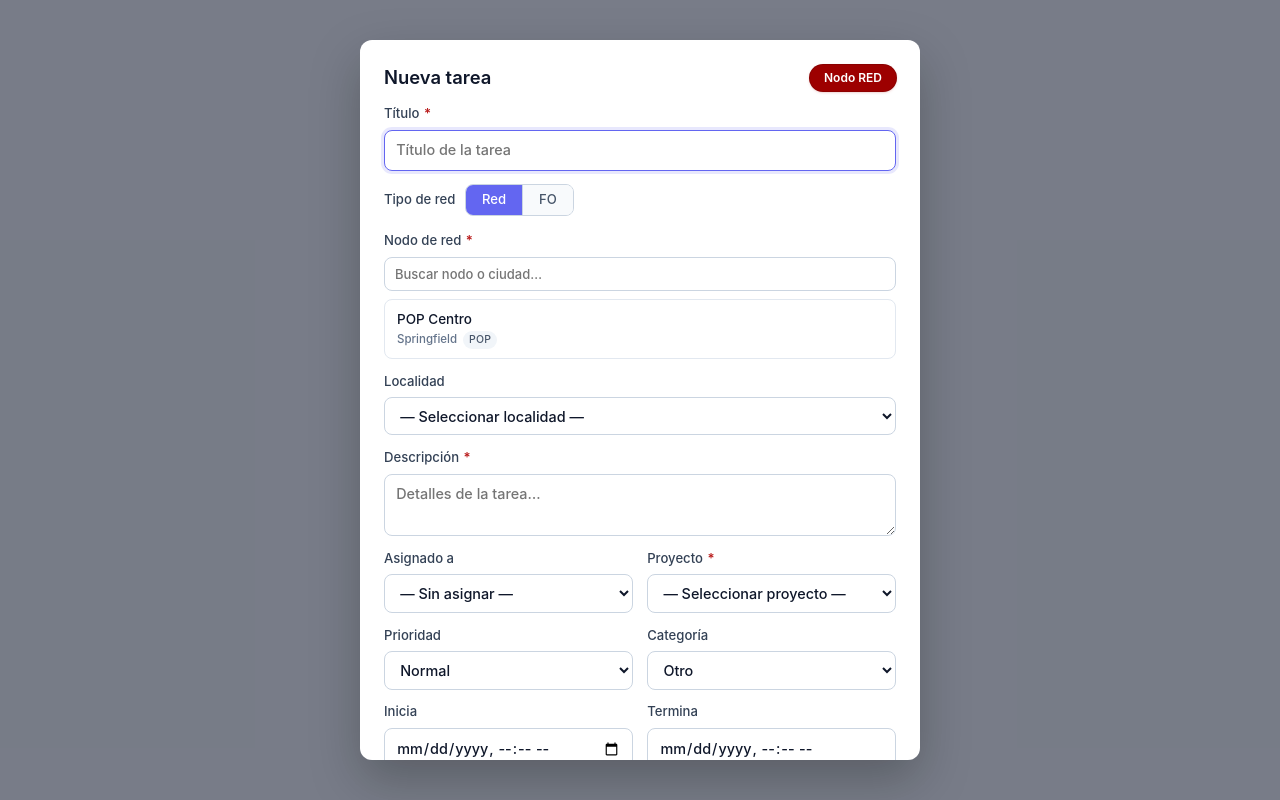
CreateTaskModal — FO node dropdown (TC-FO-1) › shows a <select> with placeholder + 3 FO options when switched to FO mode
The image size is (1280, 800).
Click the button "FO" at point(548, 200), box [523,185,573,214]
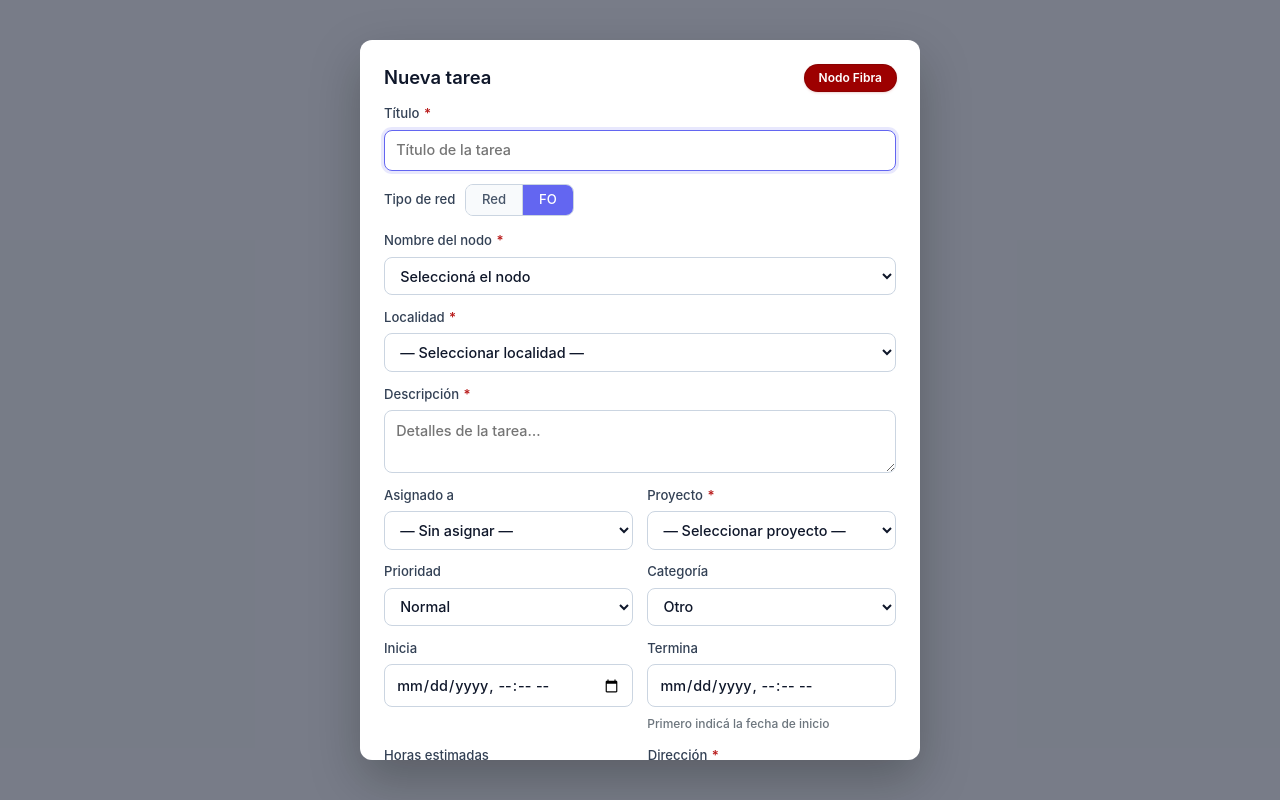
Check: the dropdown labelled "Nombre del nodo *" is shown, box [384,257,896,295]
